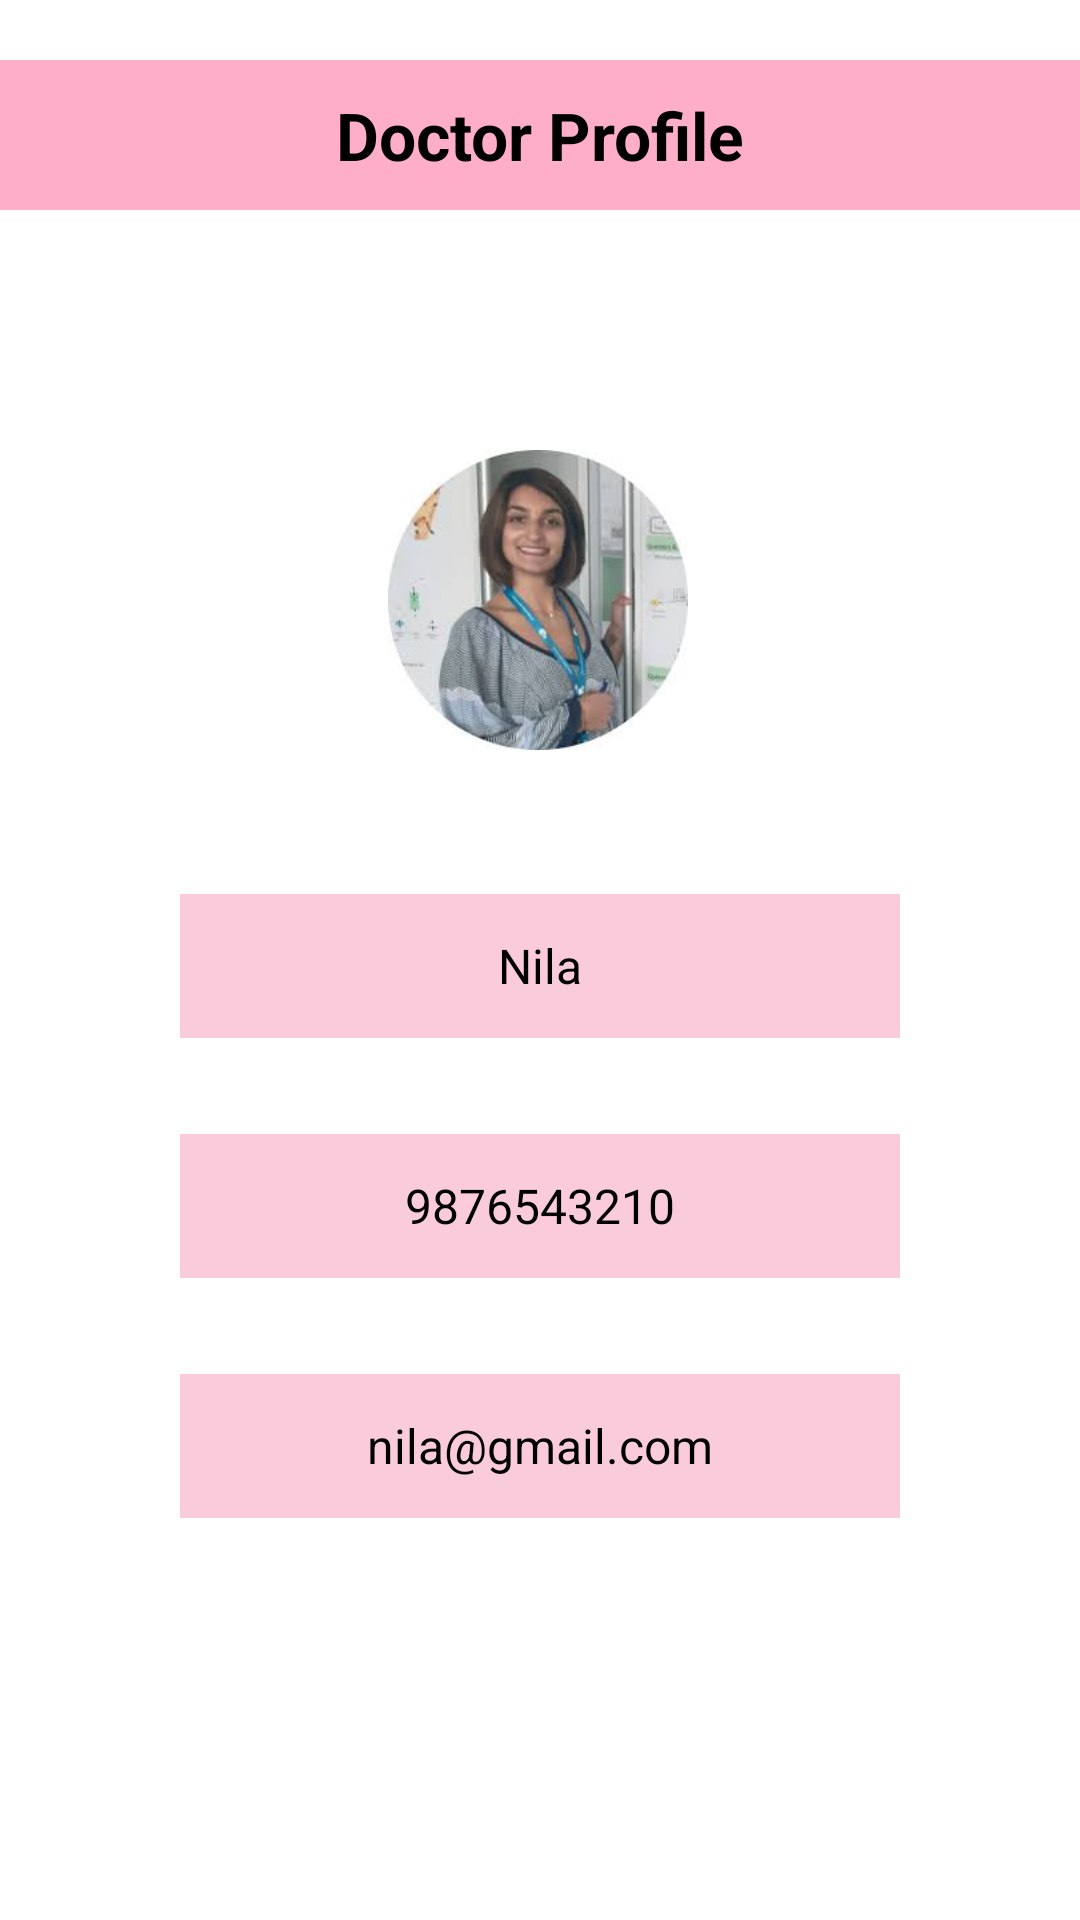

Icon click points for this 1080x1920 phone screenshot, format (x=x, y=y):
doc cir: (x=538, y=600)
